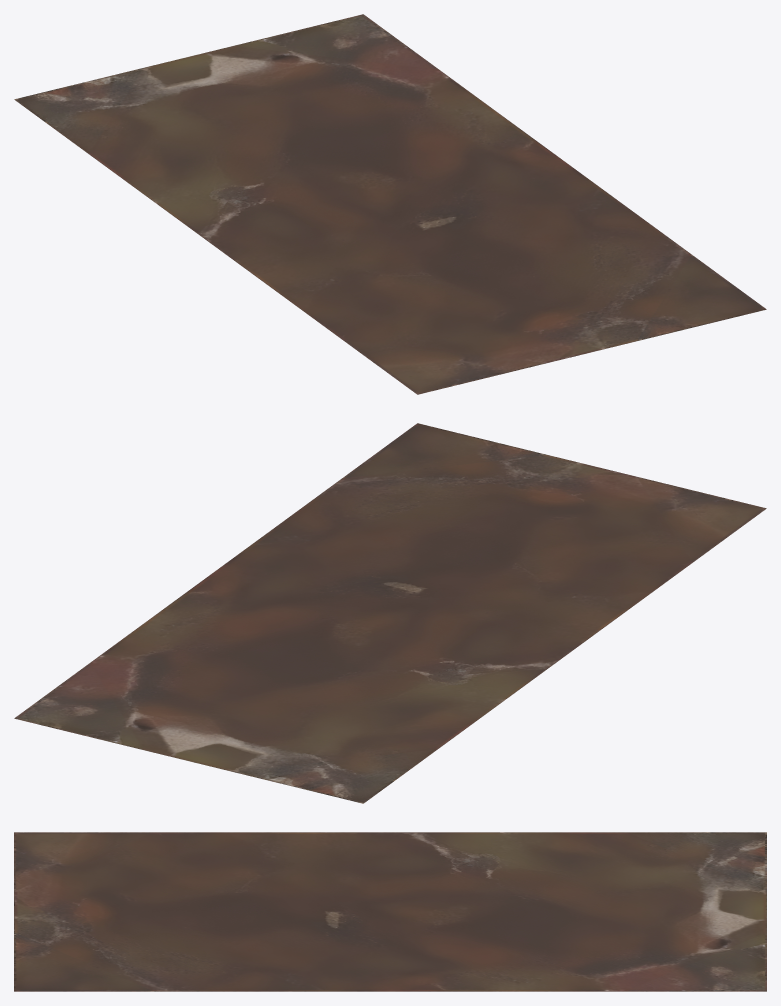
File: Meshy_AI__0118135436_texture.fbx
3 views of the same model, one above another, from view 1: azimuth 30°, elevation 25°; view 2: azimuth 150°, elevation 25°; view 3: azimuth 270°, elevation 25° (orthographic). The views are drawn at different scales.
Parts seen in each view (by area): view 1: Mesh_0; view 2: Mesh_0; view 3: Mesh_0.
Boxes of the visible parts, x1=… form: Mesh_0: x1=14, y1=14, x2=766, y2=394; Mesh_0: x1=14, y1=423, x2=766, y2=803; Mesh_0: x1=14, y1=832, x2=766, y2=991.
Bounding box in the file's own units: 100 × 8.74e-06 × 200.
1 material, 1 textured.
